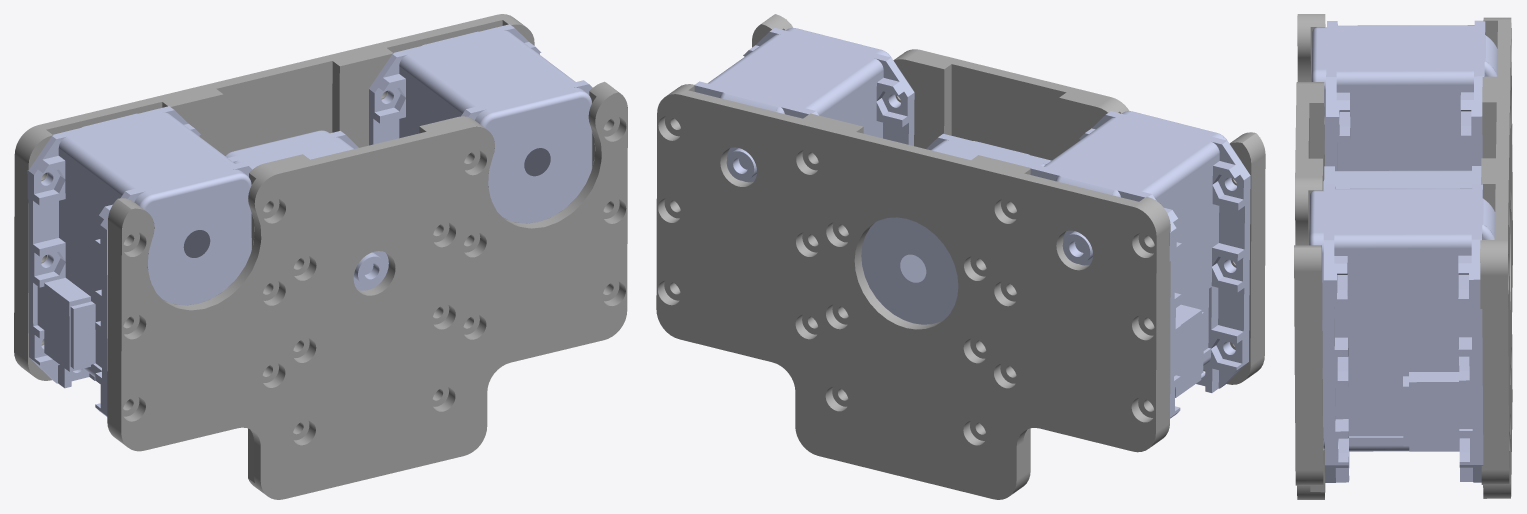
3 views of the same model, side by side, from view 1: azimuth 30°, elevation 25°; view 2: azimuth 150°, elevation 25°; view 3: azimuth 270°, elevation 25° (orthographic).
Visible parts, largest first — view 1: Cut_Extrude39_DC_Shell, NONE_DC_Shell, Fillet1_DC_Shell; view 2: Fillet1_DC_Shell, NONE_DC_Shell, Cut_Extrude39_DC_Shell; view 3: NONE_DC_Shell, Fillet1_DC_Shell, Cut_Extrude39_DC_Shell.
Part boxes in pixels (left/top/right/bottom): Cut_Extrude39_DC_Shell: left=107, top=81, right=627, bottom=499; NONE_DC_Shell: left=27, top=24, right=592, bottom=416; Fillet1_DC_Shell: left=14, top=14, right=534, bottom=380; Fillet1_DC_Shell: left=656, top=84, right=1170, bottom=499; NONE_DC_Shell: left=694, top=28, right=1250, bottom=418; Cut_Extrude39_DC_Shell: left=752, top=14, right=1265, bottom=384; NONE_DC_Shell: left=1309, top=20, right=1497, bottom=482; Fillet1_DC_Shell: left=1480, top=17, right=1512, bottom=498; Cut_Extrude39_DC_Shell: left=1294, top=14, right=1325, bottom=499.
Bounding box in the file's own units: 109 × 67.9 × 41.47.
